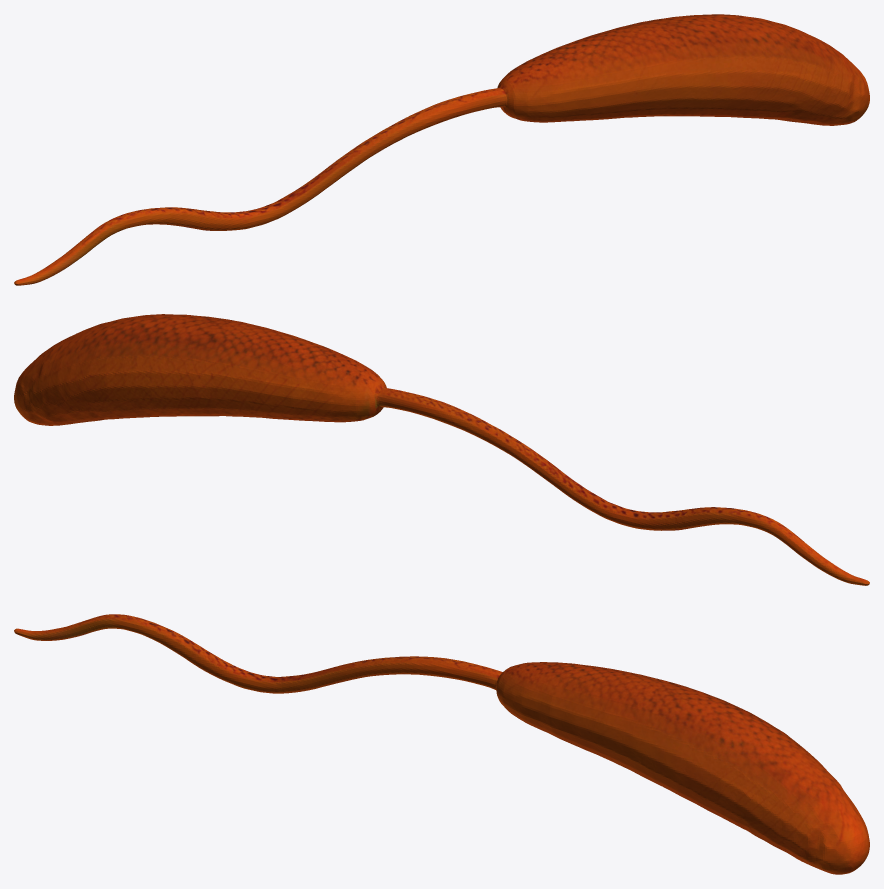
File: vibrio-cholerae.glb
The picture shows the model from 3 angles, top to bottom: view 1: azimuth 30°, elevation 25°; view 2: azimuth 150°, elevation 25°; view 3: azimuth 330°, elevation 25°; orthographic projection.
Parts seen in each view (by area): view 1: tripo_node_0d6d372b-5d35-4fa8-9261-83ffbafc4d7f; view 2: tripo_node_0d6d372b-5d35-4fa8-9261-83ffbafc4d7f; view 3: tripo_node_0d6d372b-5d35-4fa8-9261-83ffbafc4d7f.
Boxes of the visible parts, x1,y1,x2,y2 form: tripo_node_0d6d372b-5d35-4fa8-9261-83ffbafc4d7f: (14, 14, 869, 285); tripo_node_0d6d372b-5d35-4fa8-9261-83ffbafc4d7f: (14, 314, 869, 585); tripo_node_0d6d372b-5d35-4fa8-9261-83ffbafc4d7f: (14, 614, 869, 874).
Size of the model in its own units: 1 by 0.1583 by 0.1183.
Materials: 1 (1 with a texture image).
